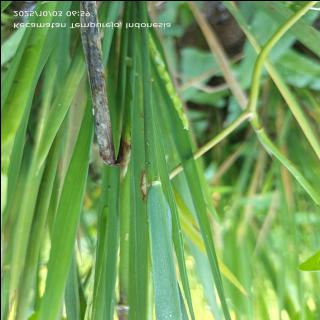Busuk-Pelepah: (79, 27, 129, 168)
